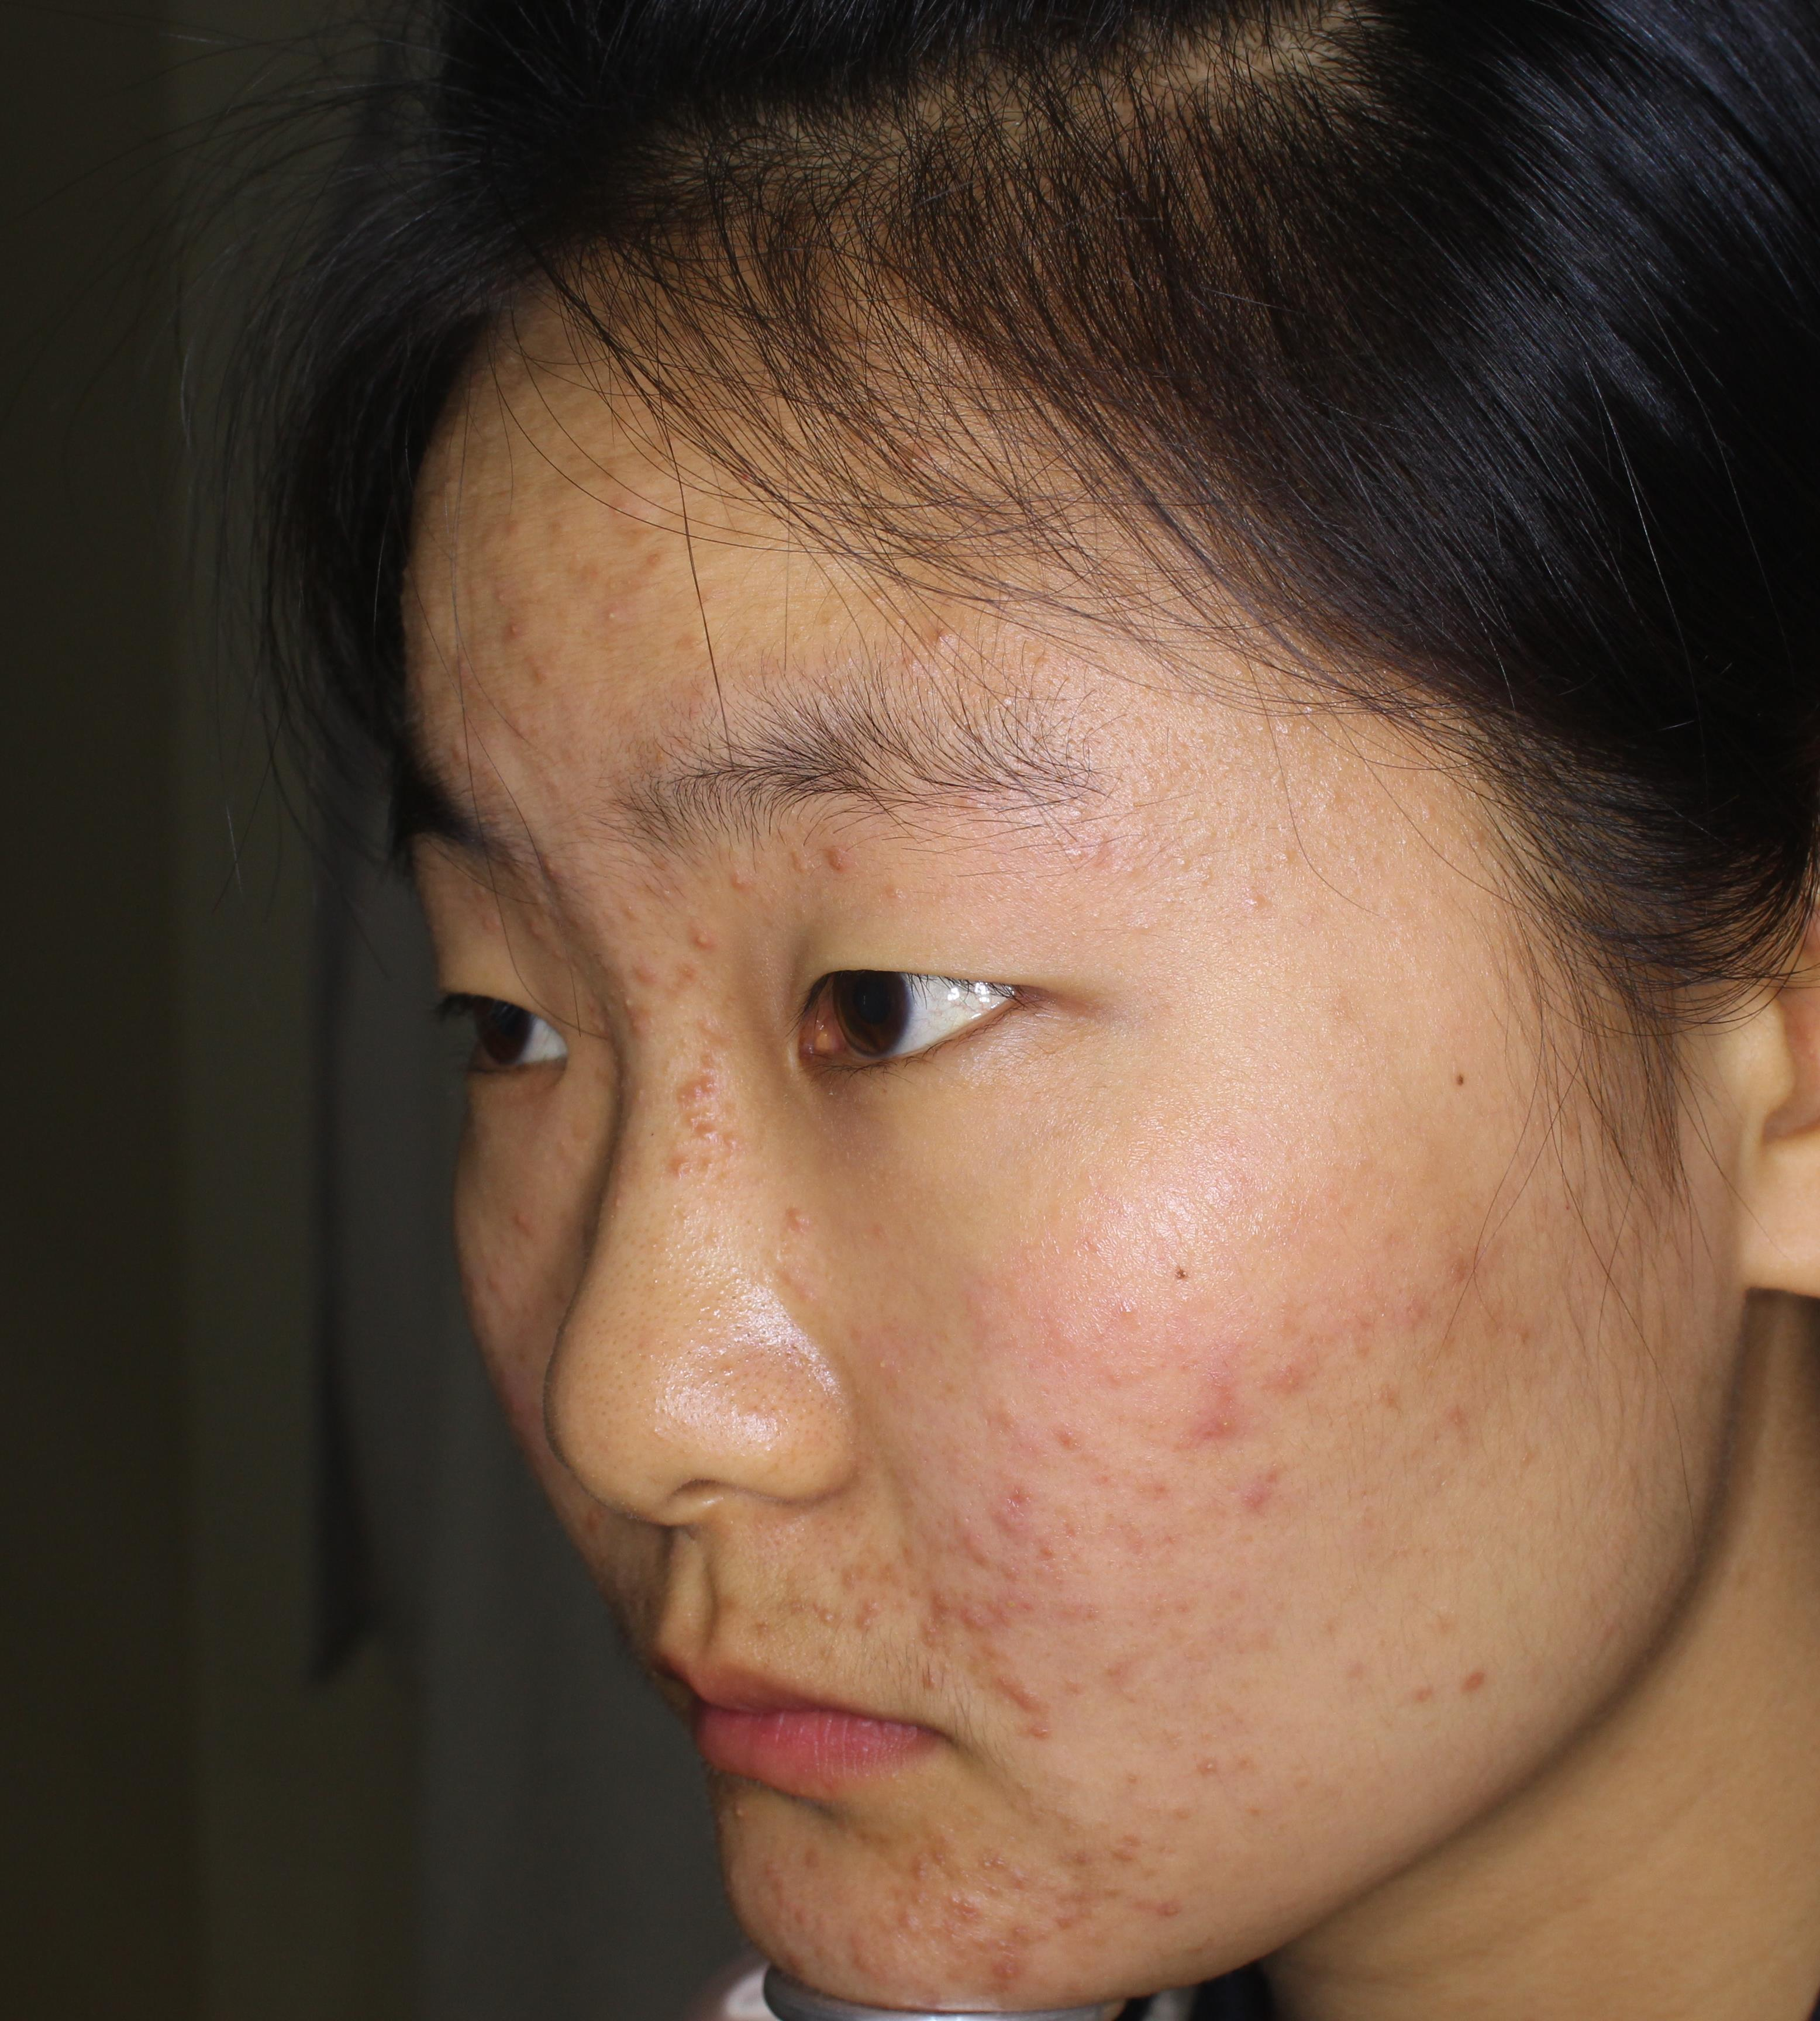fore: (1228, 1329, 1340, 1428), (1216, 1459, 1309, 1549), (1412, 1387, 1507, 1464), (1135, 1866, 1210, 1947), (996, 1473, 1068, 1554), (915, 1517, 1010, 1571), (597, 997, 678, 1061), (950, 1589, 1031, 1652), (924, 1872, 1005, 1935), (964, 1930, 1054, 1984), (817, 1571, 875, 1652), (664, 1110, 745, 1164), (1042, 1872, 1117, 1930), (901, 1817, 973, 1875), (1189, 1366, 1242, 1442), (987, 1666, 1077, 1710), (834, 1912, 889, 1984), (481, 590, 552, 644), (979, 1705, 1068, 1745), (1072, 1571, 1117, 1643), (898, 1594, 956, 1649), (481, 697, 557, 737), (1453, 1658, 1499, 1724), (1036, 1406, 1094, 1456), (502, 639, 552, 694), (611, 957, 678, 989), (664, 1052, 722, 1087), (673, 917, 710, 953)
